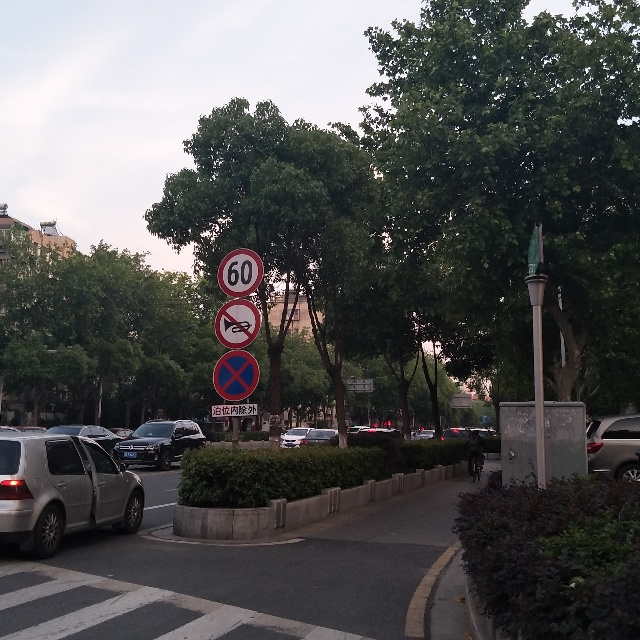nohonk: (216, 302, 258, 340)
stop: (219, 354, 256, 399)
